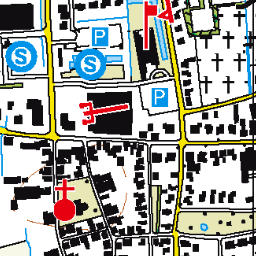church: (48, 177, 79, 224)
